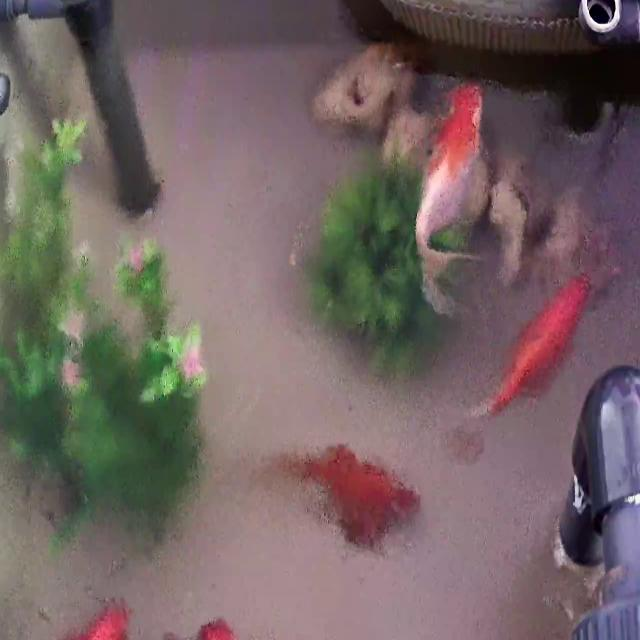fish: (479, 268, 611, 414), (414, 81, 490, 314), (281, 446, 403, 550)
